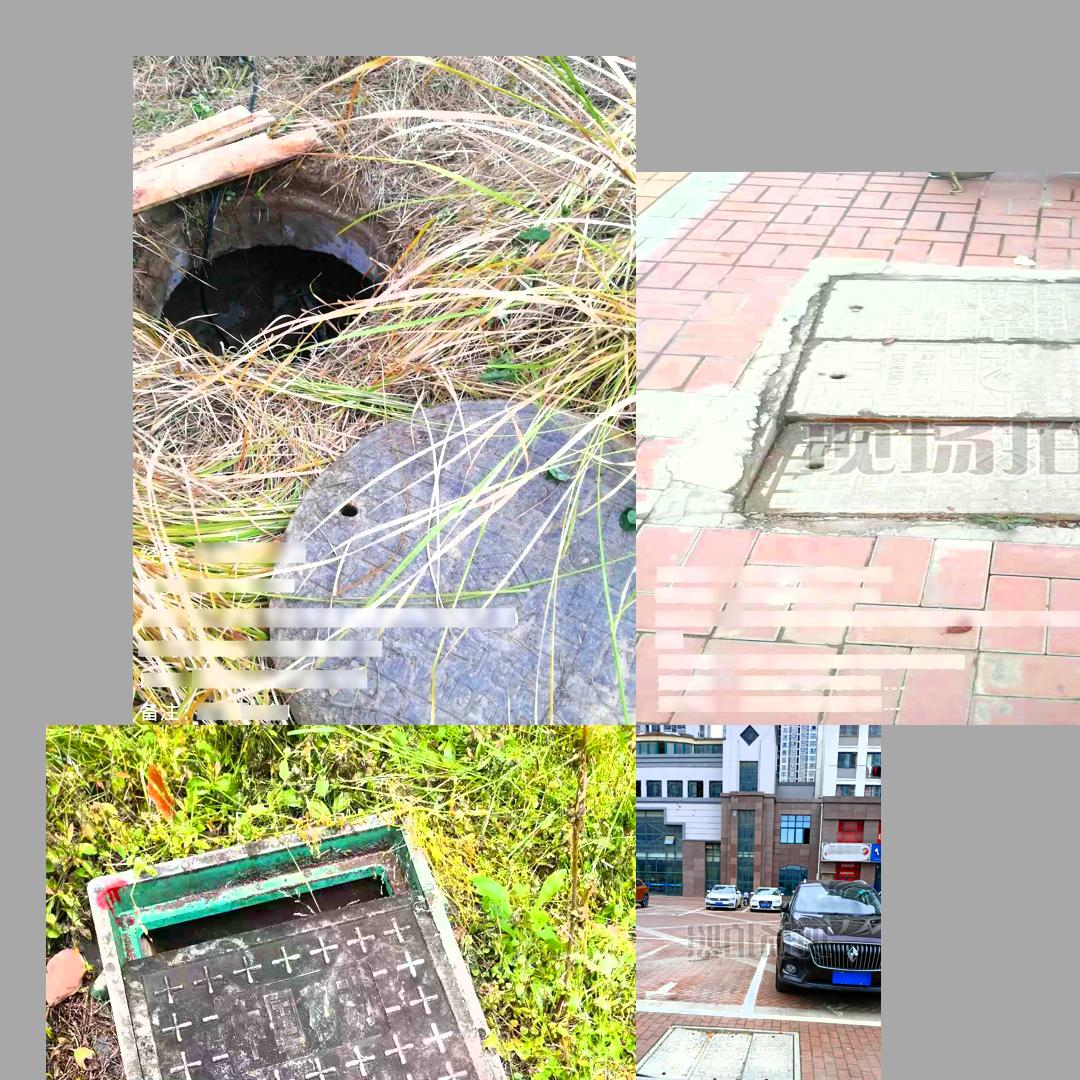uncovered: (145, 149, 621, 709), (86, 805, 615, 1080), (730, 266, 1080, 537), (636, 1025, 803, 1080)
